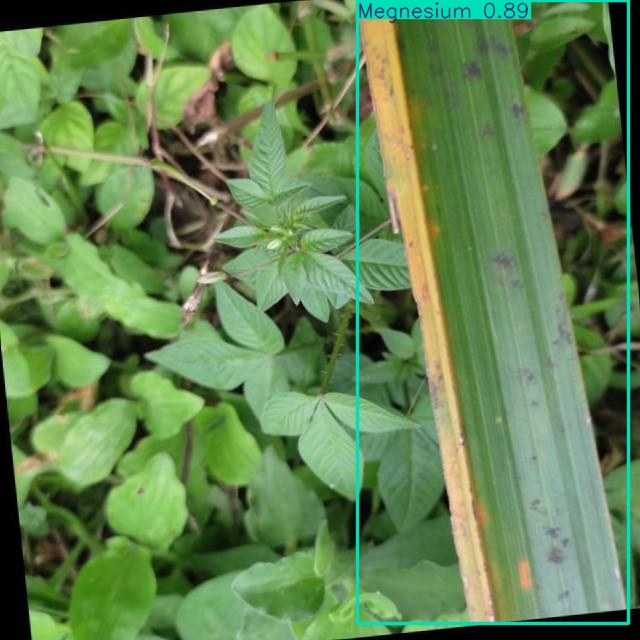Megnesium: (358, 0, 628, 623)
